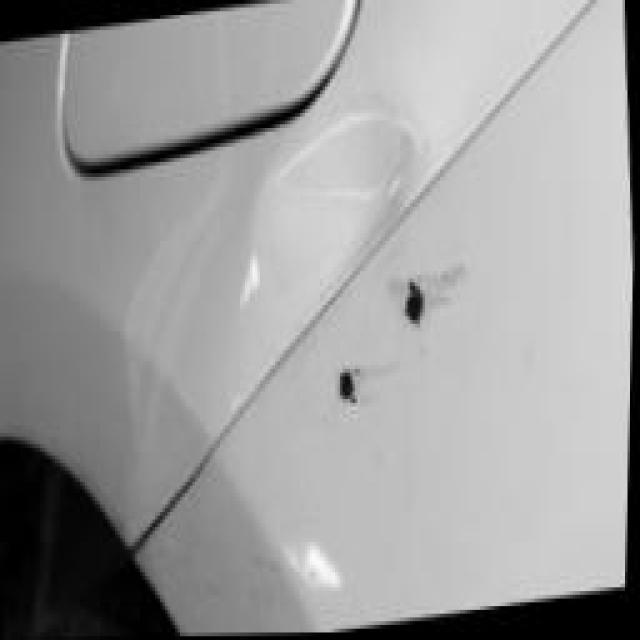Door: (282, 199, 482, 463)
Fender: (106, 48, 500, 470)
